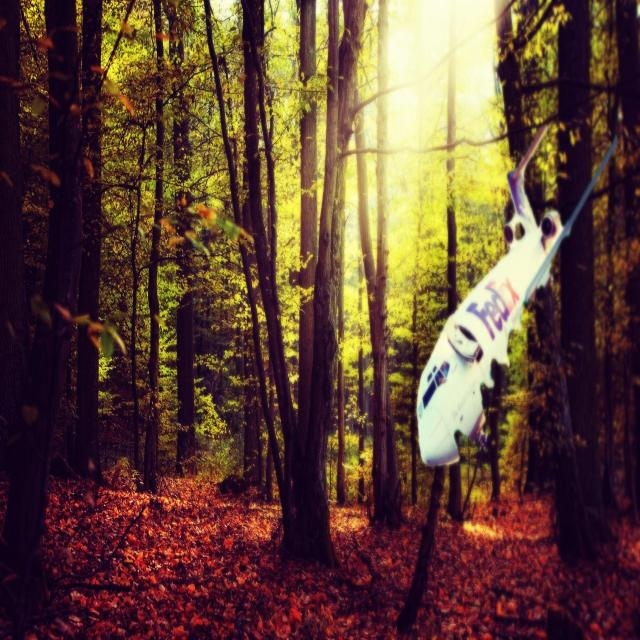airplane: (416, 122, 618, 468)
